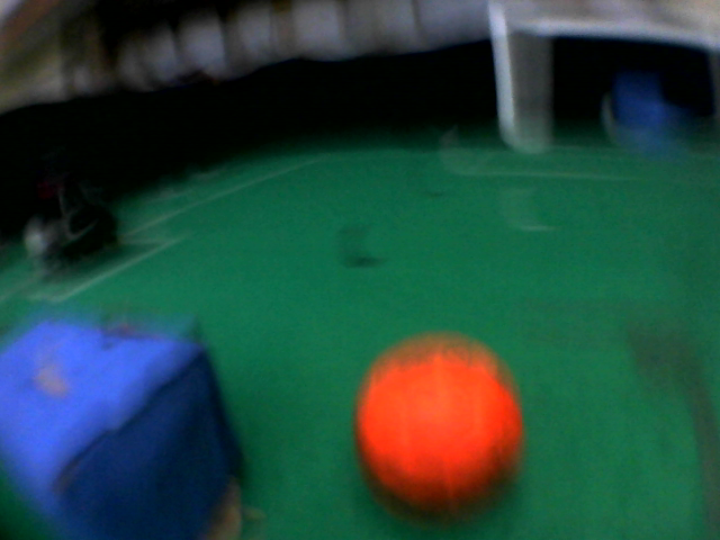bola: (347, 330, 534, 531)
